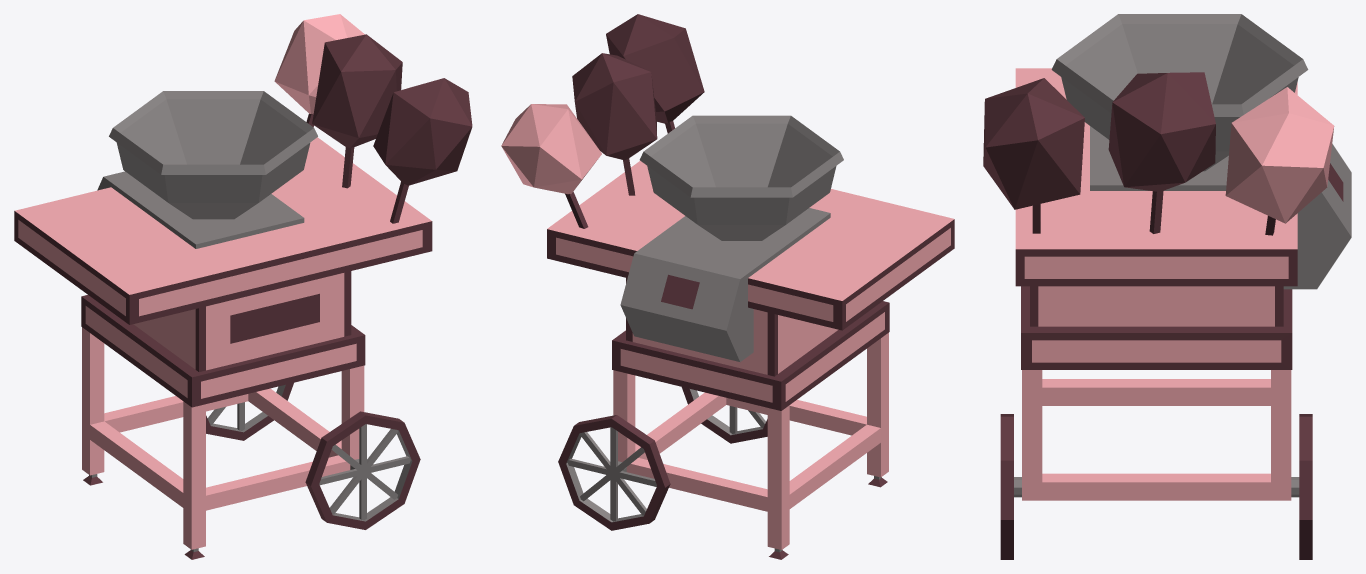
File: stand-cotton-small.fbx
3 views of the same model, side by side, from view 1: azimuth 30°, elevation 25°; view 2: azimuth 150°, elevation 25°; view 3: azimuth 270°, elevation 25° (orthographic). The views are drawn at different scales.
Visible parts, largest first — view 1: stand-cotton-small; view 2: stand-cotton-small; view 3: stand-cotton-small.
Boxes of the visible parts, x1,y1,x2,y2 form: stand-cotton-small: (14,14,472,559); stand-cotton-small: (501,14,954,559); stand-cotton-small: (983,14,1351,559).
Size of the model in its own units: 1.35 by 1.58 by 1.01.
